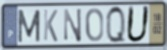K: (42, 9, 59, 44)
M: (16, 8, 42, 44)
N: (63, 7, 83, 44)
O: (84, 7, 104, 44)
Q: (105, 4, 128, 46)
U: (125, 5, 152, 45)
